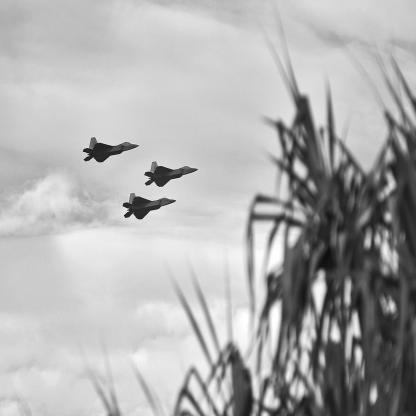F22: (123, 194, 177, 221), (84, 138, 140, 164), (145, 162, 199, 188)
